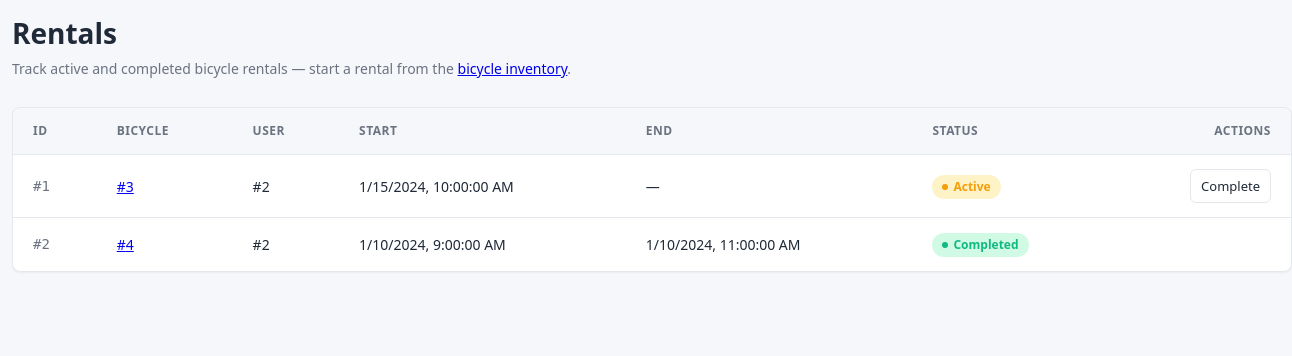
Test case: RentalsPage — rental actions › shows error when completeRental fails
Click the button "Complete" at (1230, 186), box [1190,169,1271,203]
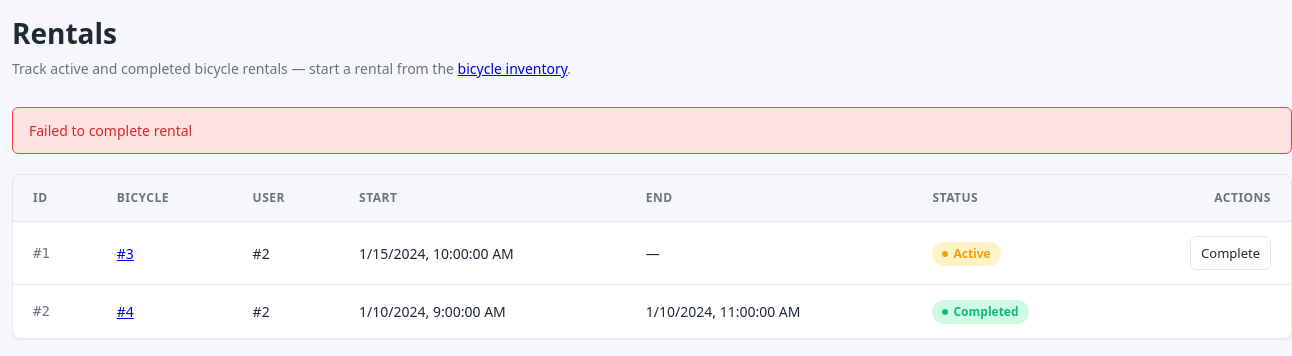
Expected: the text "Failed to complete rental" is shown, [12,107,1291,154]
